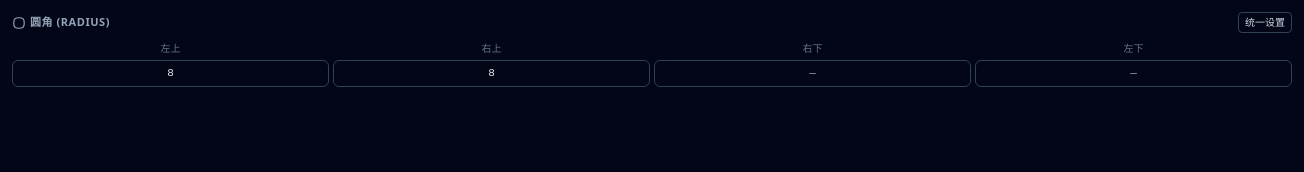
Test: 属性面板几何属性与多 Tab (Inspector Geometry & Tabs) › CHK-F-04 & CHK-F-05: 圆角 (BR-INS-05) › CHK-F-05b: 切回统一模式会清空四角，避免残留角值压住统一设置
The width and height of the screenshot is (1304, 172).
Check: the field with test id "radius-border-top-left-radius" is shown, box [12, 60, 329, 86]
Click the button with test id "radius-mode-toggle" at (1265, 22), box [1238, 12, 1292, 33]
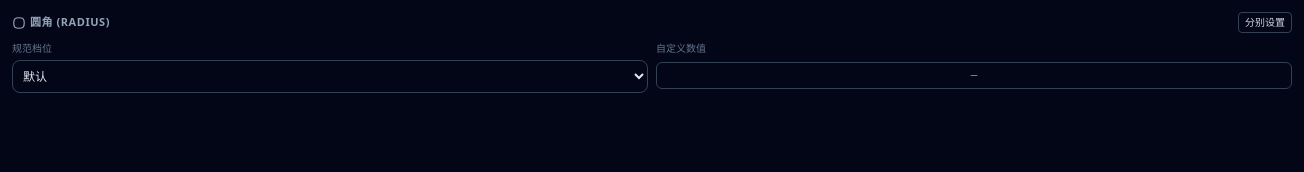
Check: the dropdown with test id "radius-token" is shown, box [12, 60, 648, 93]
